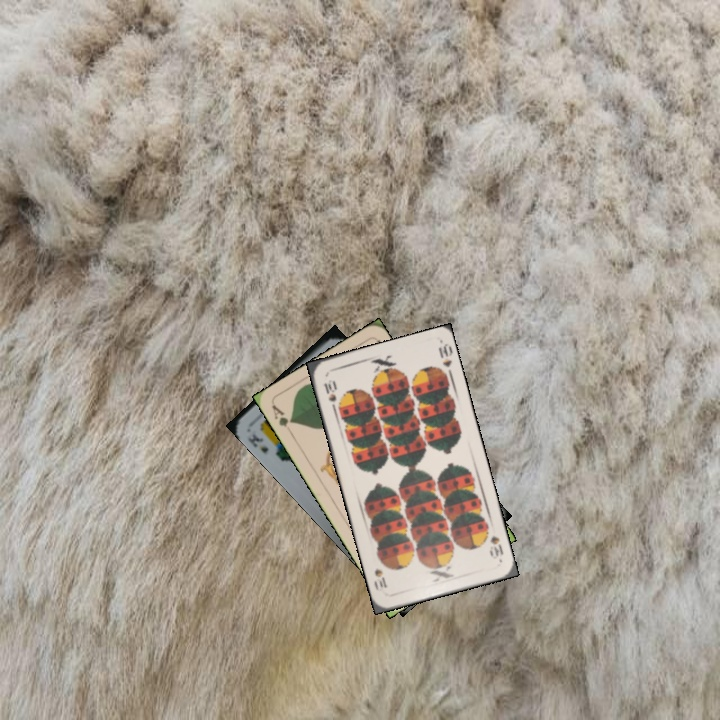EK: (243, 430, 271, 456)
GA: (268, 401, 296, 438)
S10: (320, 376, 339, 413), (486, 531, 506, 559)
